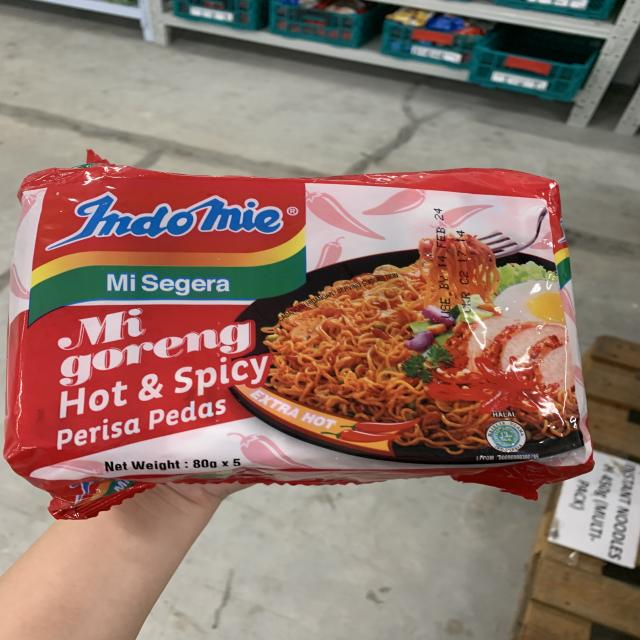object_name: (28, 170, 580, 480)
